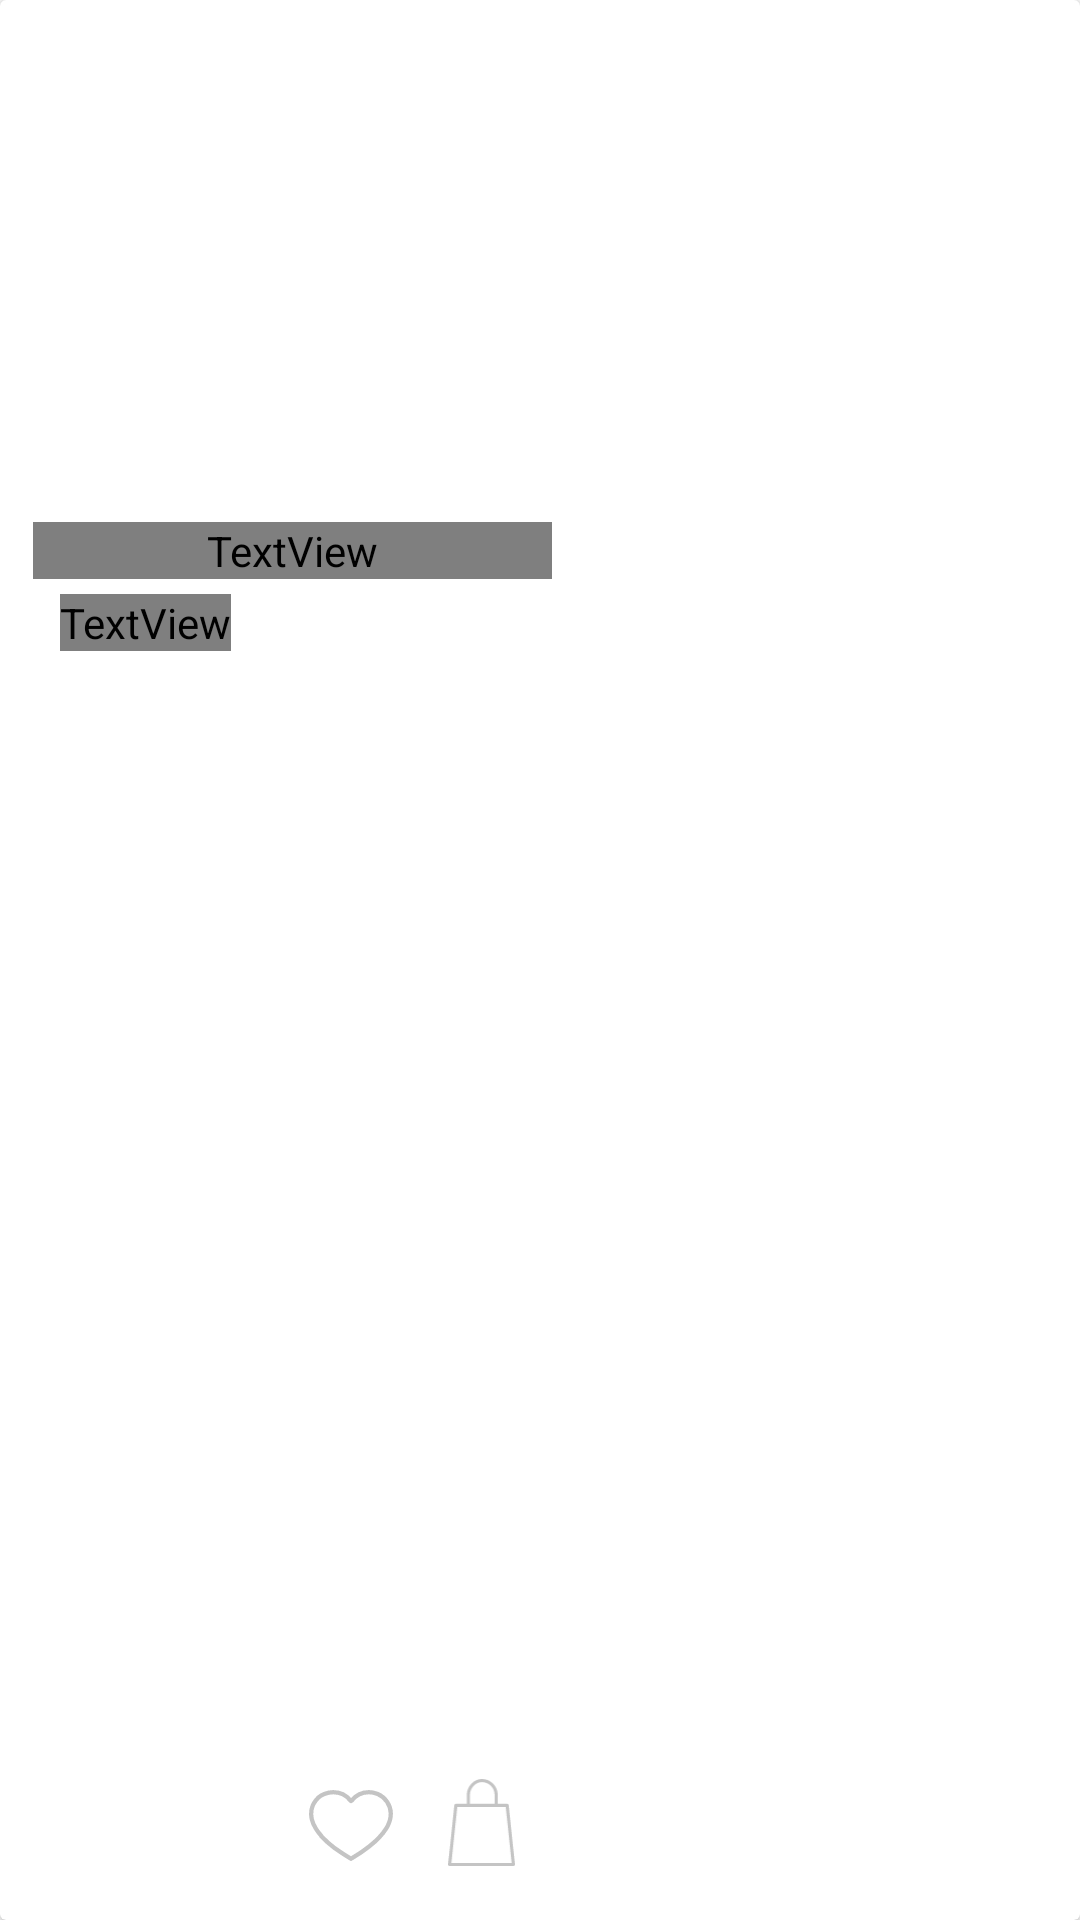

Named icons in this screenshot (1080×1920) and their bounding boxes, (x1=x1, y1=y1, x2=x2, y2=y2):
carrinho: (x1=448, y1=1779, x2=515, y2=1866)
favorito: (x1=309, y1=1790, x2=393, y2=1861)
